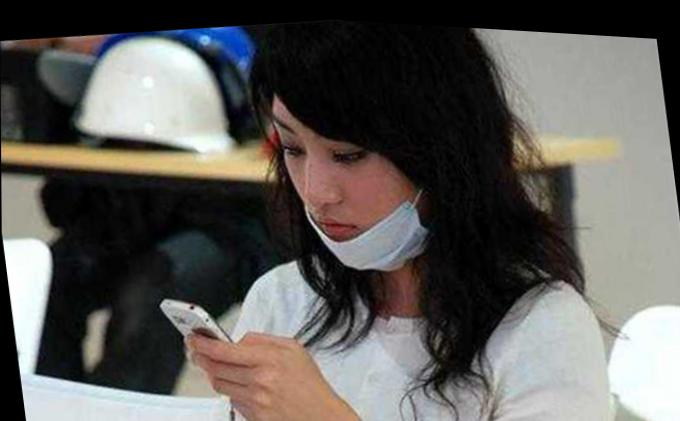WRONG: (274, 76, 433, 275)
